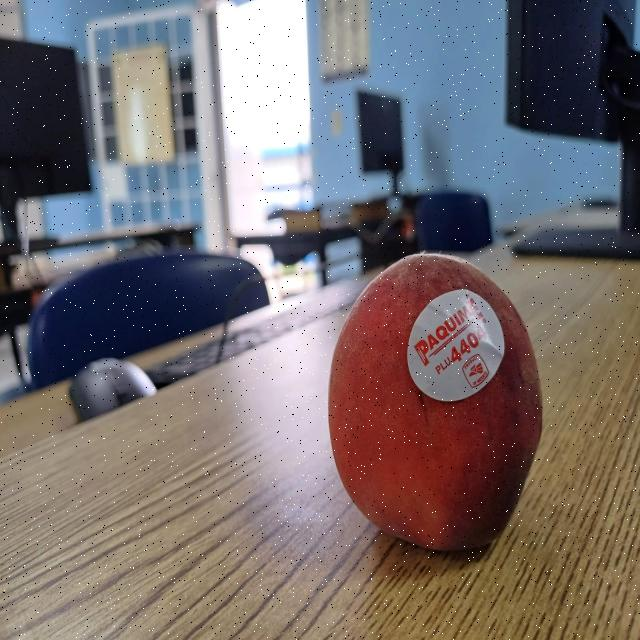Persik: (324, 233, 551, 557)
